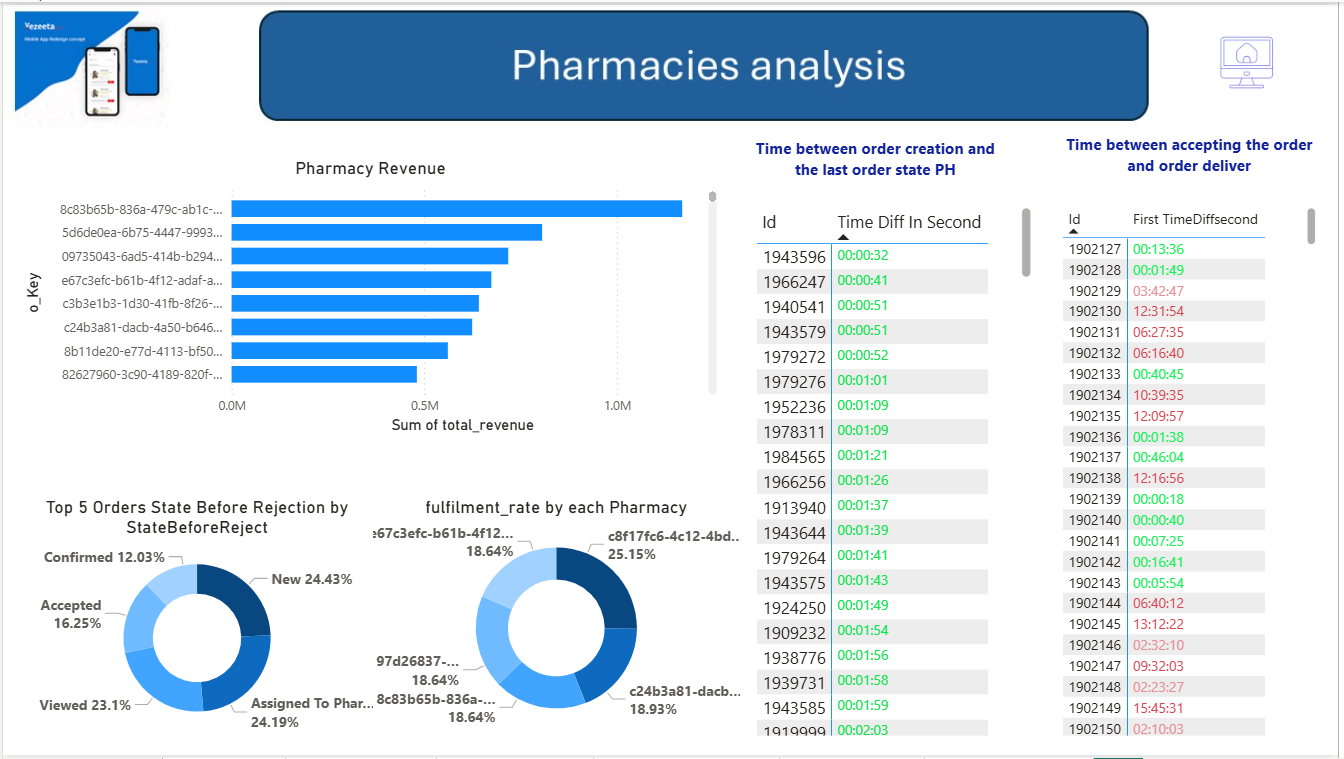

The page's visual inventory and layout, read from the dashboard file:
{"tool":"powerbi","page":{"name":"Pharmacies analysis ","canvas":[1280,720],"ordinal":3},"visuals":[{"type":"donutChart","fields":{"Category":["top5_situations_before_rejecting.StateBeforeReject"],"Y":["Sum(top5_situations_before_rejecting.NumberOfOrders)"]},"box":[16.9,471.4,339,233.8],"z":0},{"type":"pivotTable","fields":{"Rows":["pharmacies_diff_customer_t.Id"],"Values":["Min(pharmacies_diff_customer_t.TimeDiffsecond)"]},"box":[718.5,189,272.7,516.5],"z":1000},{"type":"pivotTable","fields":{"Rows":["pharmacies_diff_customer_t_allsituations.Id"],"Values":["Min(pharmacies_diff_customer_t_allsituations.TimeDiffsecond)"]},"box":[1011.4,189,252.5,516.5],"z":2000},{"type":"textbox","box":[706.5,122.1,261,51.9],"z":3000},{"type":"textbox","box":[1011.7,118.2,251.9,55.8],"z":4000},{"type":"donutChart","title":"fulfilment_rate by each Pharmacy","fields":{"Category":["top_pharmacies_fulfilment_rate.o_Key"],"Y":["Sum(top_pharmacies_fulfilment_rate.fulfilment_rate)"]},"box":[354.5,471.4,351.9,233.8],"z":5000},{"type":"clusteredBarChart","title":"Pharmacy Revenue","fields":{"Category":["pharmacies_total_sales.o_Key"],"Y":["Sum(pharmacies_total_sales.total_revenue)"]},"box":[15.6,146.8,674,270.1],"z":6000},{"type":"image","box":[1162.5,25.2,59.9,59.9],"z":6001}]}

Visuals, with their boxes in screenshot pixels (x1, y1, x2, y2), scaled from the page's 1280x720 canvas onto the 1344x759 screenshot:
donutChart - top5_situations_before_rejecting.StateBeforeReject x Sum(top5_situations_before_rejecting.NumberOfOrders): [left=18, top=497, right=374, bottom=743]
pivotTable - pharmacies_diff_customer_t.Id x Min(pharmacies_diff_customer_t.TimeDiffsecond): [left=754, top=199, right=1041, bottom=744]
pivotTable - pharmacies_diff_customer_t_allsituations.Id x Min(pharmacies_diff_customer_t_allsituations.TimeDiffsecond): [left=1062, top=199, right=1327, bottom=744]
textbox: [left=742, top=129, right=1016, bottom=183]
textbox: [left=1062, top=125, right=1327, bottom=183]
"fulfilment_rate by each Pharmacy" donutChart: [left=372, top=497, right=742, bottom=743]
"Pharmacy Revenue" clusteredBarChart: [left=16, top=155, right=724, bottom=439]
image: [left=1221, top=27, right=1284, bottom=90]
